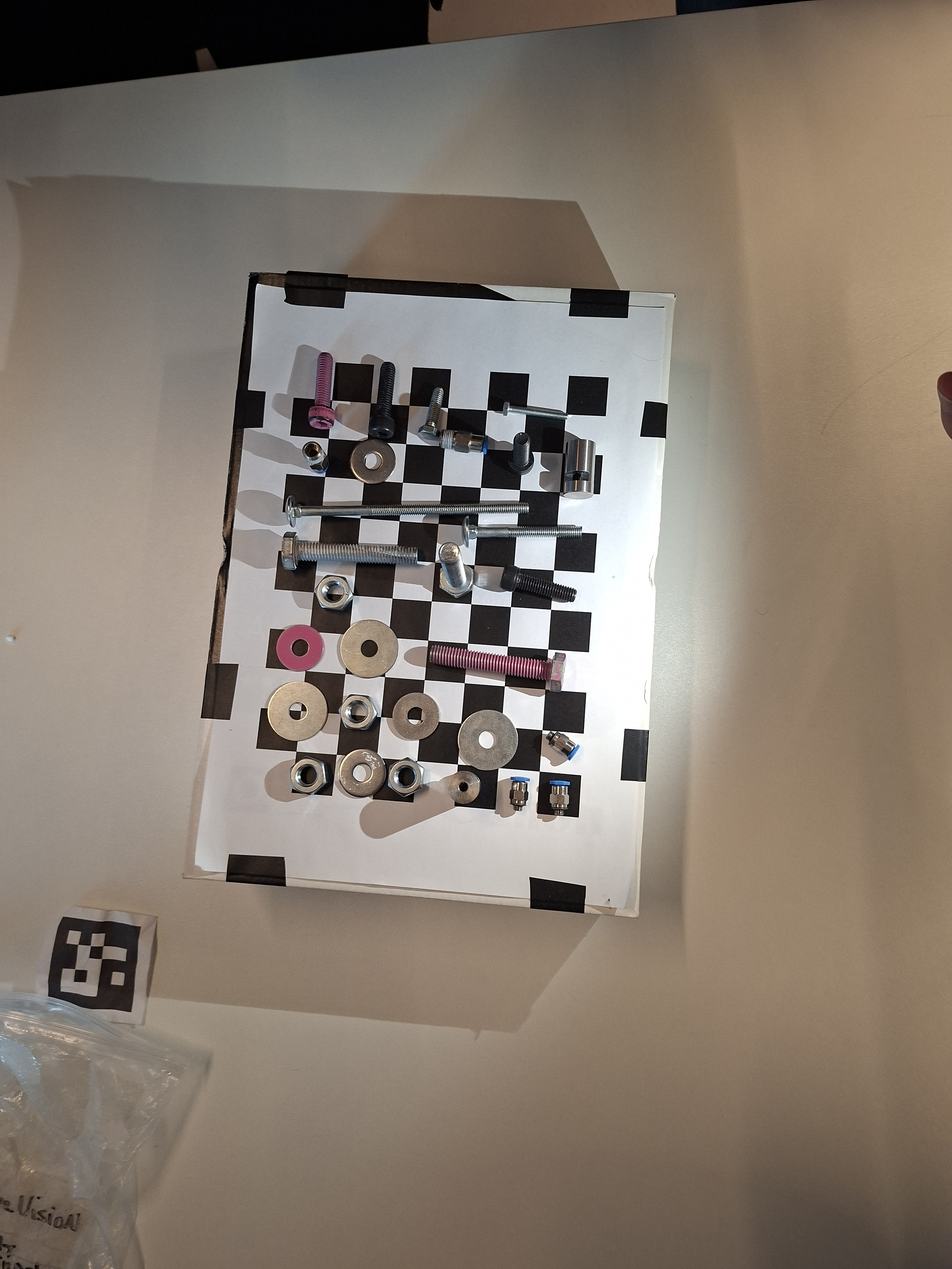allen_screw: (493, 560, 587, 611), (362, 355, 404, 441), (304, 346, 340, 435), (506, 430, 537, 478)
barrel_nut: (557, 434, 601, 502), (444, 770, 484, 807)
carriage_bolt: (281, 488, 534, 530), (460, 512, 584, 551)
hex_bolt: (428, 628, 570, 698), (278, 530, 424, 579), (423, 534, 486, 607), (412, 381, 452, 448), (499, 397, 574, 427)
hex_nut: (280, 749, 335, 806), (378, 750, 432, 803), (305, 570, 360, 620), (334, 690, 381, 734)
pneumatic_fitting: (296, 433, 338, 481), (434, 425, 493, 458), (540, 723, 584, 765), (545, 778, 576, 819), (504, 773, 532, 815)
washer: (447, 705, 527, 777), (263, 676, 332, 745), (335, 615, 402, 685), (387, 689, 450, 743), (338, 747, 392, 803), (274, 621, 327, 673), (347, 437, 398, 486)
